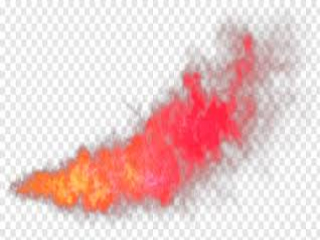fire: (7, 68, 269, 208)
